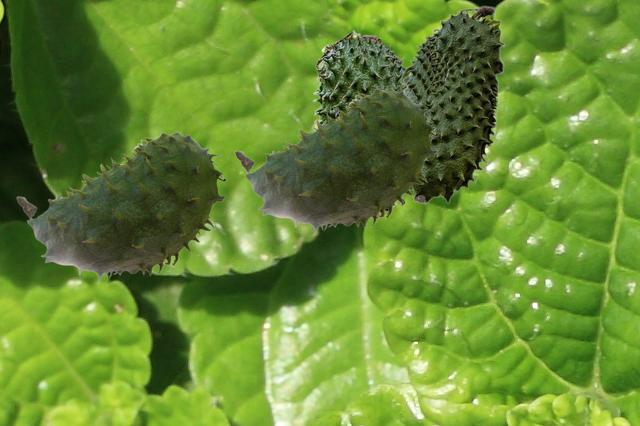guyabano: (16, 132, 225, 283), (234, 88, 437, 235), (400, 5, 504, 203), (312, 29, 413, 218)
